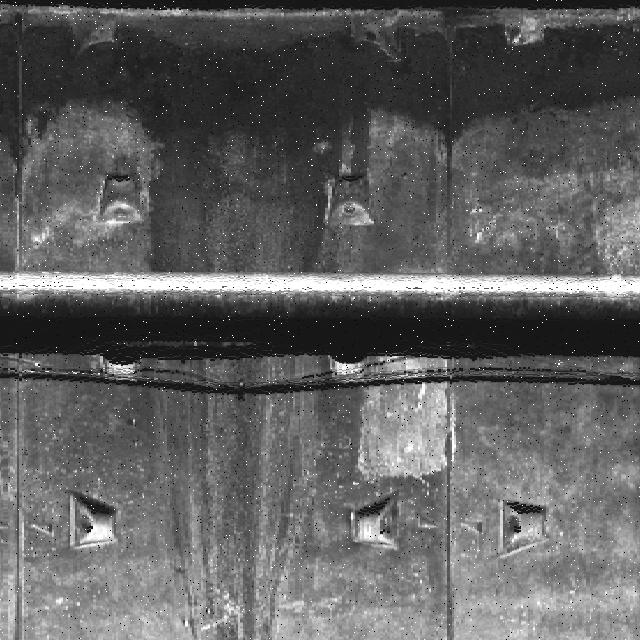leakage: (7, 0, 640, 268), (146, 342, 335, 639)
